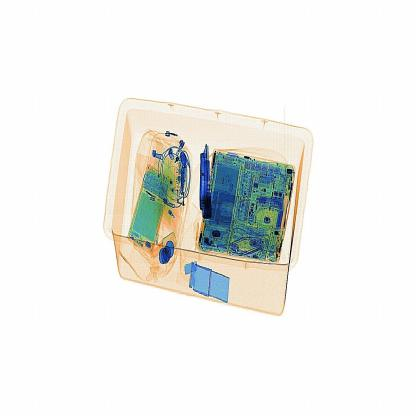pliers: (197, 140, 215, 226)
